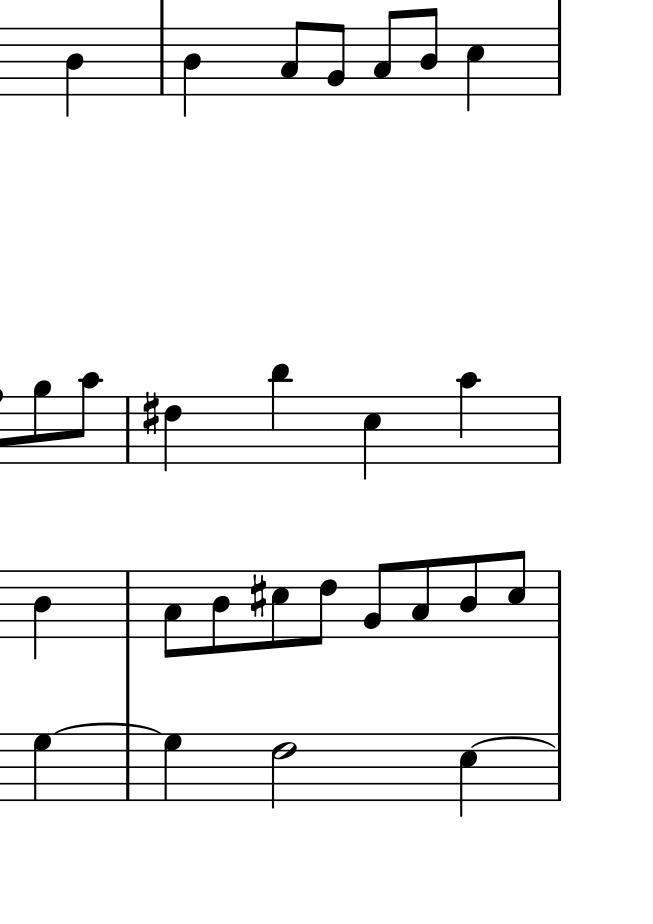2_6: (269, 733, 295, 809)
4_10: (457, 371, 479, 467)
4_4: (63, 26, 85, 120), (182, 26, 204, 118), (31, 570, 52, 661)
4_5: (360, 395, 383, 483), (464, 25, 487, 112), (457, 732, 478, 819)
4_6: (163, 395, 182, 472)
4_7: (31, 732, 53, 803), (162, 732, 183, 801)
8_10: (71, 371, 101, 467)
8_11: (267, 360, 291, 467)
8_2: (361, 561, 389, 640), (326, 23, 347, 98)
8_3: (372, 9, 400, 98), (279, 19, 307, 98), (161, 569, 183, 660), (409, 558, 431, 640)
8_4: (419, 6, 441, 97), (209, 569, 232, 656), (458, 553, 481, 640)
8_5: (505, 548, 527, 640), (268, 568, 290, 650)
8_6: (309, 569, 338, 648)
8_9: (31, 379, 51, 466)
Sharp: (247, 573, 268, 621), (141, 390, 160, 435)
Single_barline: (120, 732, 138, 801), (551, 732, 567, 803), (153, 27, 170, 92), (551, 29, 567, 95), (551, 396, 567, 462), (120, 397, 136, 462), (552, 570, 567, 639), (120, 571, 135, 637)
Slur: (52, 722, 161, 735), (470, 738, 559, 747)
